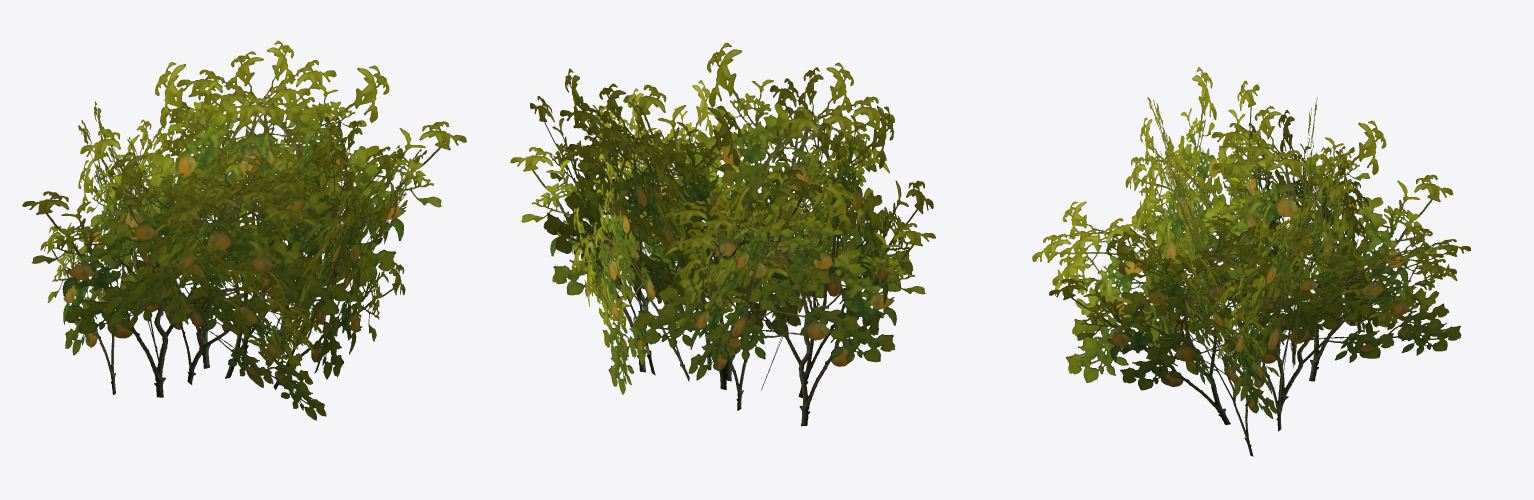
File: grass_06.fbx
3 views of the same model, side by side, from view 1: azimuth 30°, elevation 25°; view 2: azimuth 150°, elevation 25°; view 3: azimuth 270°, elevation 25° (orthographic). The views are drawn at different scales.
Visible parts, largest first — view 1: polySurface177; view 2: polySurface177; view 3: polySurface177.
Part boxes in pixels (bbox=[...]): polySurface177: bbox=[22, 40, 466, 420]; polySurface177: bbox=[510, 42, 935, 426]; polySurface177: bbox=[1032, 67, 1470, 456].
Size of the model in its own units: 3.19 by 2.61 by 3.45.
